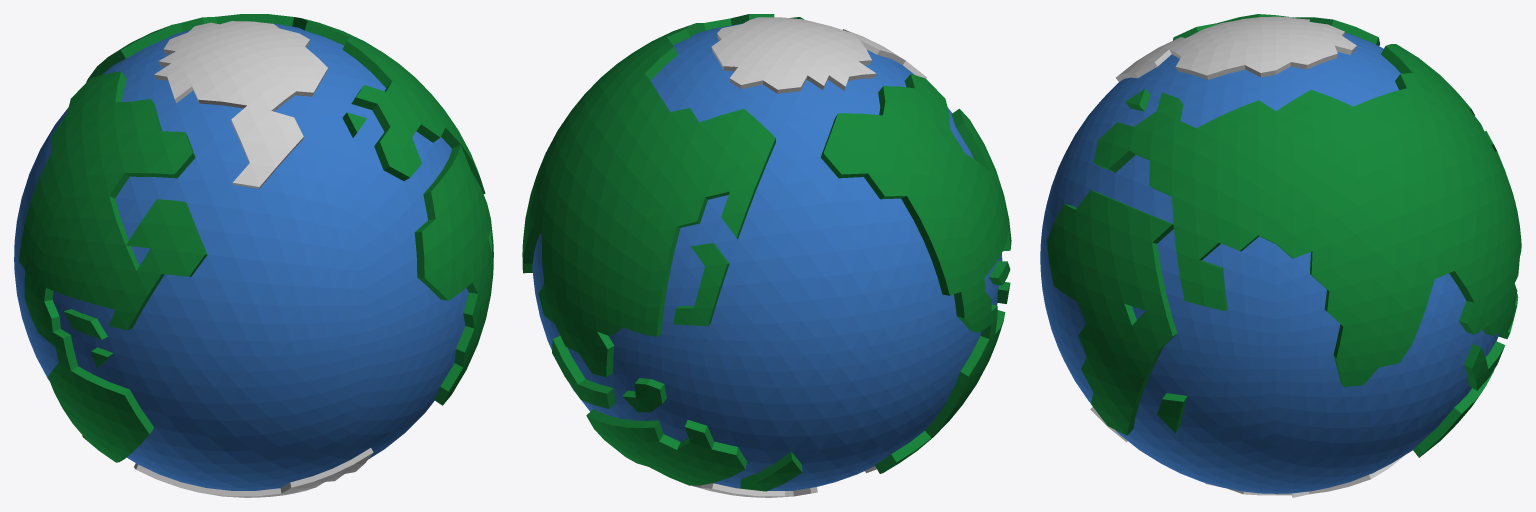
File: globe_3.dae
The picture shows the model from 3 angles, left to right: view 1: azimuth 30°, elevation 25°; view 2: azimuth 150°, elevation 25°; view 3: azimuth 270°, elevation 25°; orthographic projection.
Visible parts, largest first — view 1: Water, Land, Ice; view 2: Water, Land, Ice; view 3: Land, Water, Ice.
Part boxes in pixels (x1=…): Water: x1=14, y1=23, x2=468, y2=490; Land: x1=19, y1=14, x2=493, y2=462; Ice: x1=134, y1=21, x2=373, y2=497; Water: x1=532, y1=23, x2=1002, y2=490; Land: x1=522, y1=14, x2=1011, y2=491; Ice: x1=692, y1=17, x2=926, y2=497; Land: x1=1047, y1=14, x2=1521, y2=457; Water: x1=1040, y1=33, x2=1499, y2=493; Ice: x1=1090, y1=16, x2=1403, y2=497.
Bounding box in the file's own units: 526 × 524 × 523.
